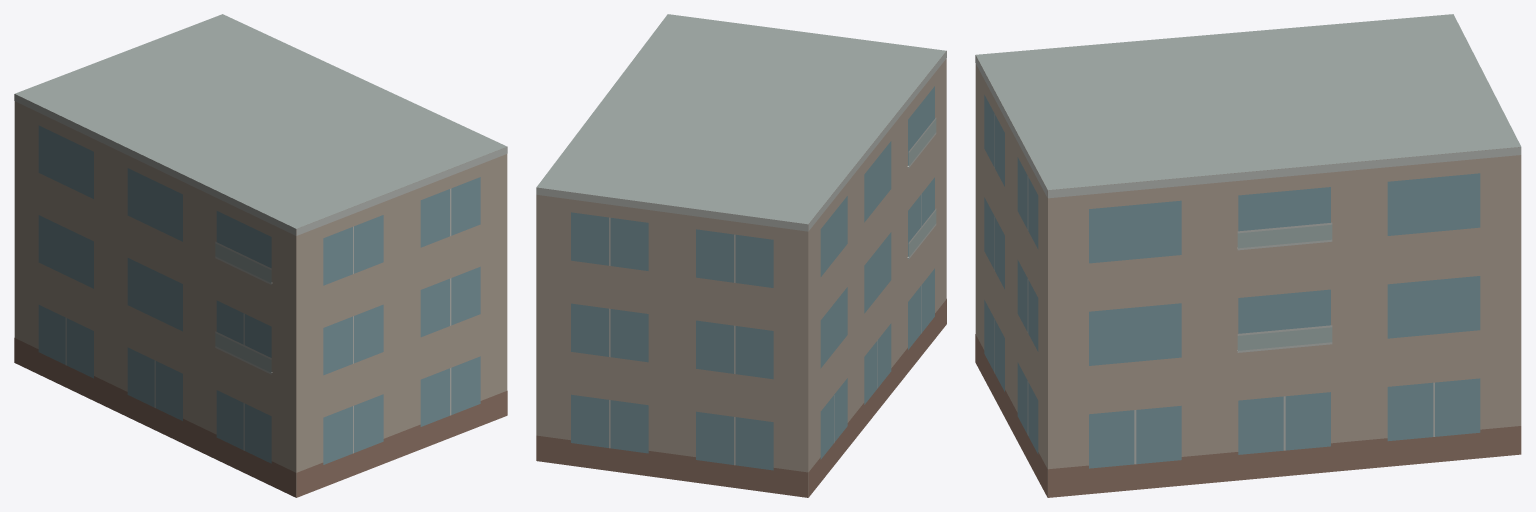
The model's file is survey-upis-32698503.glb.
3 views of the same model, side by side, from view 1: azimuth 30°, elevation 25°; view 2: azimuth 150°, elevation 25°; view 3: azimuth 270°, elevation 25° (orthographic). The views are drawn at different scales.
Visible parts, largest first — view 1: survey-upis-32698503.tmp; view 2: survey-upis-32698503.tmp; view 3: survey-upis-32698503.tmp.
Part boxes in pixels (x1,y1,x2,y2): survey-upis-32698503.tmp: [14, 14, 507, 497]; survey-upis-32698503.tmp: [536, 14, 946, 497]; survey-upis-32698503.tmp: [975, 14, 1521, 497].
Bounding box in the file's own units: 11.25 × 9.15 × 14.72.
